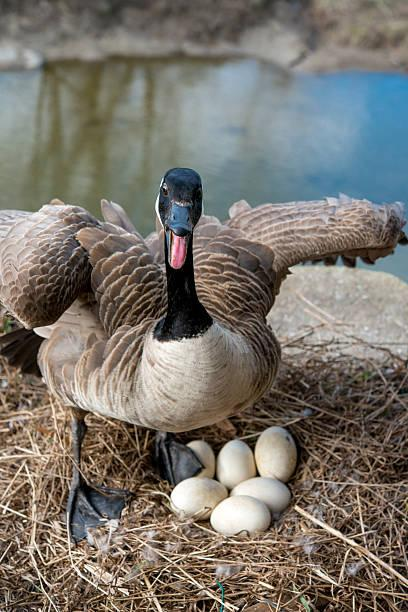Canadian-Goose: (2, 165, 408, 537)
